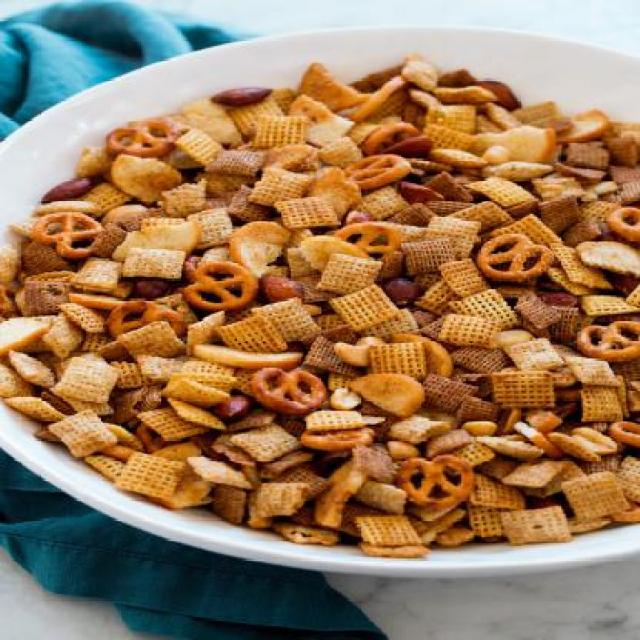Salatini packaged: (5, 49, 638, 560)
